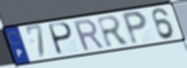6: (150, 6, 175, 40)
7: (23, 22, 47, 61)
P: (120, 10, 149, 46), (48, 22, 75, 57)
R: (95, 15, 132, 50), (71, 18, 106, 53)
